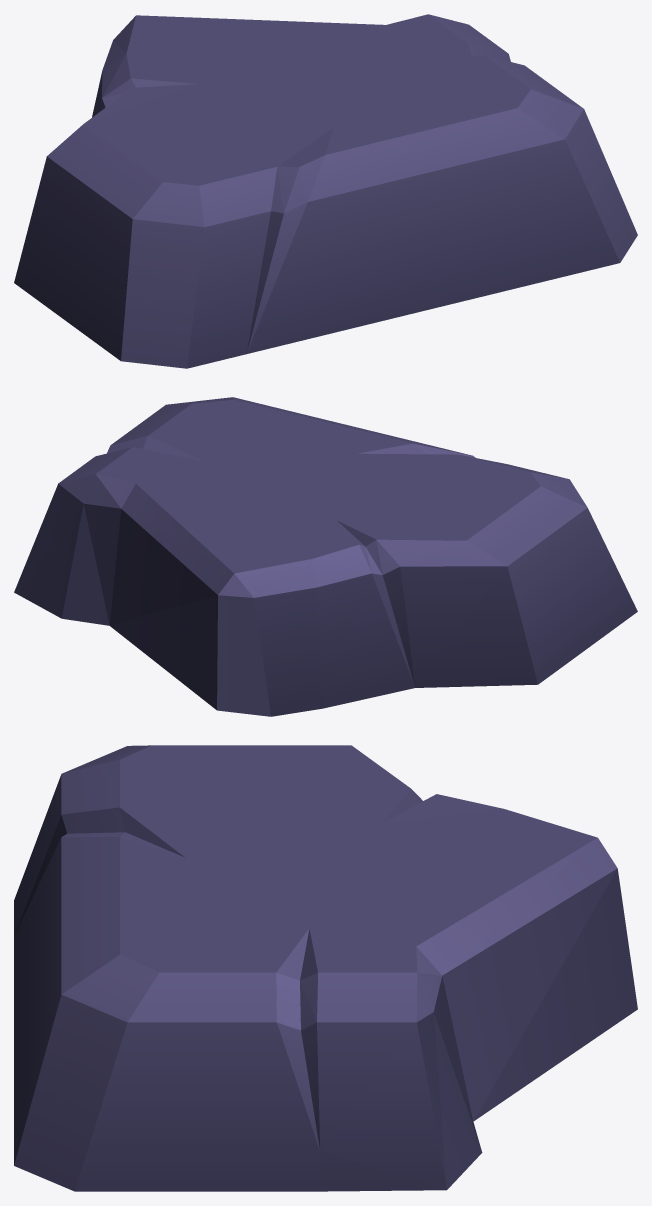
The model's file is tile_5.glb.
The picture shows the model from 3 angles, top to bottom: view 1: azimuth 30°, elevation 25°; view 2: azimuth 150°, elevation 25°; view 3: azimuth 270°, elevation 25°; orthographic projection. The views are drawn at different scales.
Parts seen in each view (by area): view 1: tile_5; view 2: tile_5; view 3: tile_5.
Part boxes in pixels (<box>): tile_5: <box>14,14,637,368</box>; tile_5: <box>14,397,637,716</box>; tile_5: <box>14,745,637,1191</box>.
Bounding box in the file's own units: 2.01 × 0.5163 × 1.67.
1 material, 1 textured.
